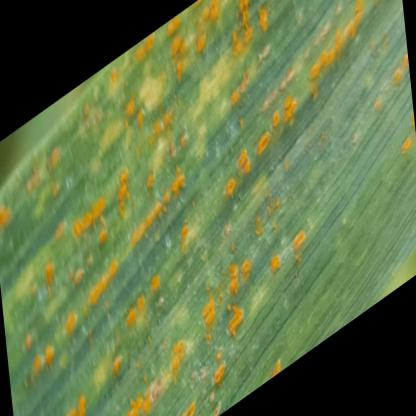Wheat-Yellow-rust: (6, 201, 182, 314), (109, 71, 237, 194), (28, 318, 168, 415), (243, 110, 335, 254), (306, 14, 384, 88), (211, 271, 246, 384), (171, 25, 276, 62), (176, 316, 205, 416), (395, 54, 408, 211), (78, 103, 104, 158), (205, 0, 287, 14)
